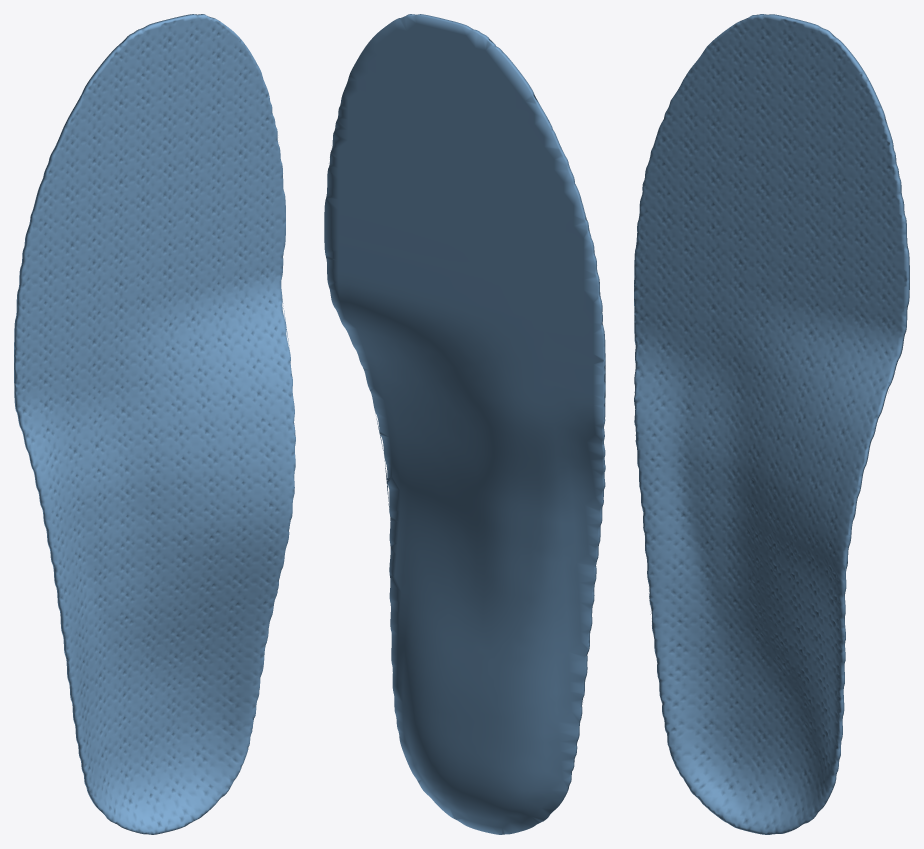
Rendered from PAIR-TOP-COVER_T12_addon.glb.
3 renders of one model, left to right at view 1: azimuth 30°, elevation 25°; view 2: azimuth 150°, elevation 25°; view 3: azimuth 330°, elevation 25°, orthographic. The views are drawn at different scales.
Visible parts, largest first — view 1: geometry_0; view 2: geometry_0; view 3: geometry_0.
Part boxes in pixels (x1,y1,x2,y2): geometry_0: (14,14,295,834); geometry_0: (324,14,605,834); geometry_0: (634,14,909,834).
Size of the model in its own units: 99.51 by 280 by 23.23.
